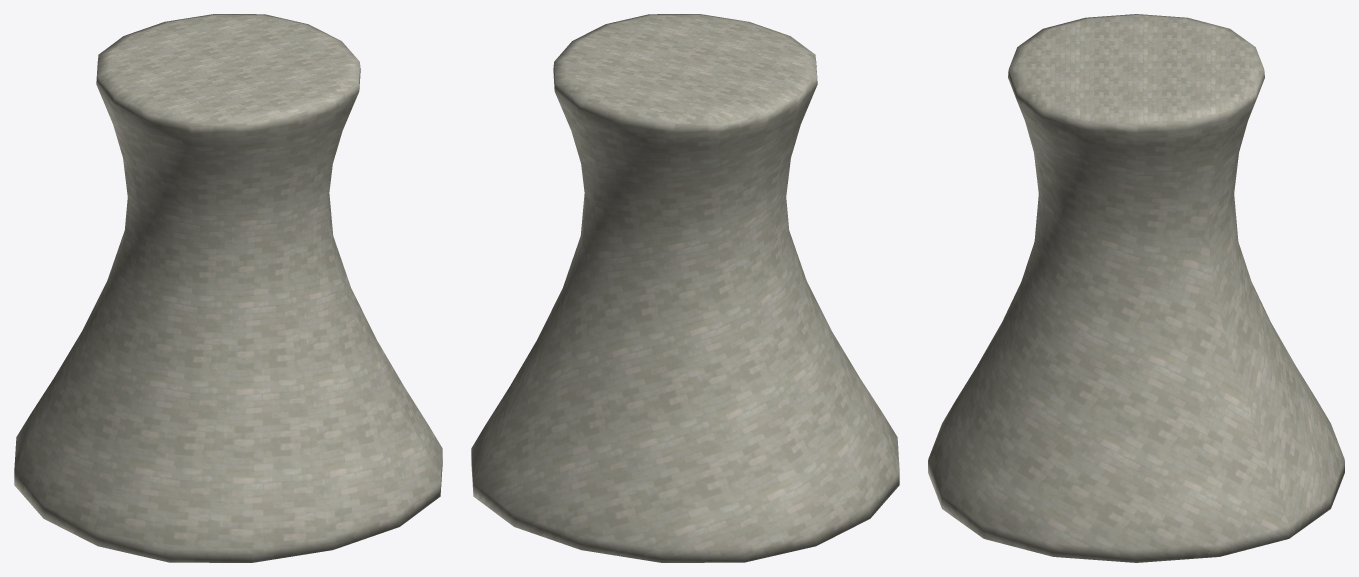
File: Lengingta34001.fbx
3 renders of one model, left to right at view 1: azimuth 30°, elevation 25°; view 2: azimuth 150°, elevation 25°; view 3: azimuth 270°, elevation 25°, orthographic.
Parts seen in each view (by area): view 1: pCube11; view 2: pCube11; view 3: pCube11.
Boxes of the visible parts, left/top/right/bottom form: pCube11: left=14, top=14, right=442, bottom=562; pCube11: left=471, top=14, right=899, bottom=562; pCube11: left=928, top=14, right=1344, bottom=562.
Size of the model in its own units: 23.54 by 25.47 by 23.04.
Materials: 1 (1 with a texture image).
